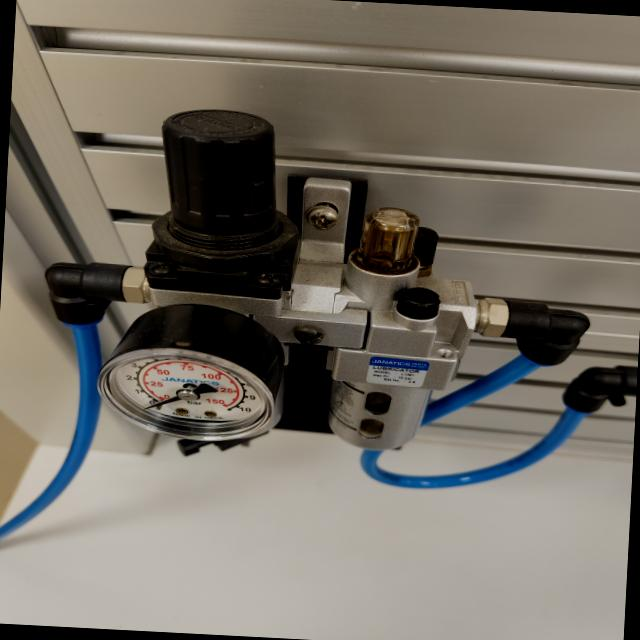FRL unit: (29, 92, 519, 498)
